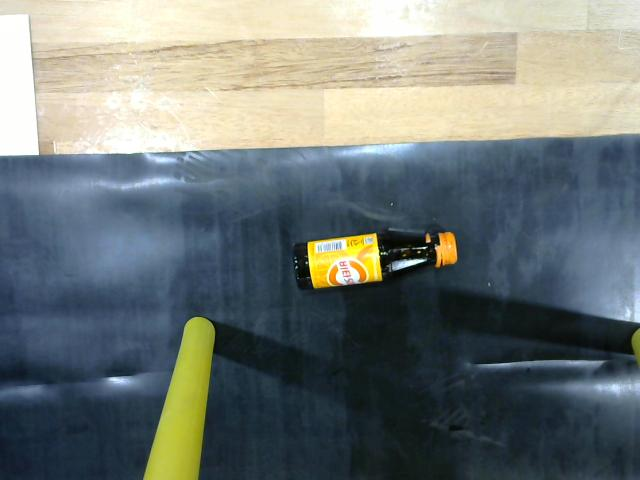glass: (289, 214, 463, 298)
